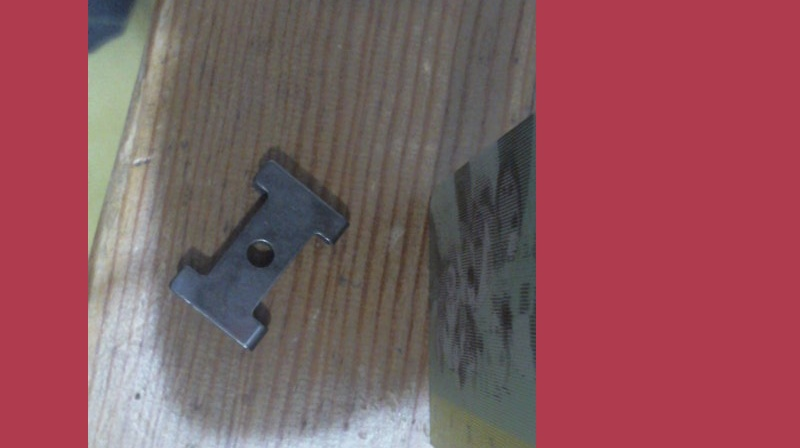O002: (168, 156, 352, 354)
